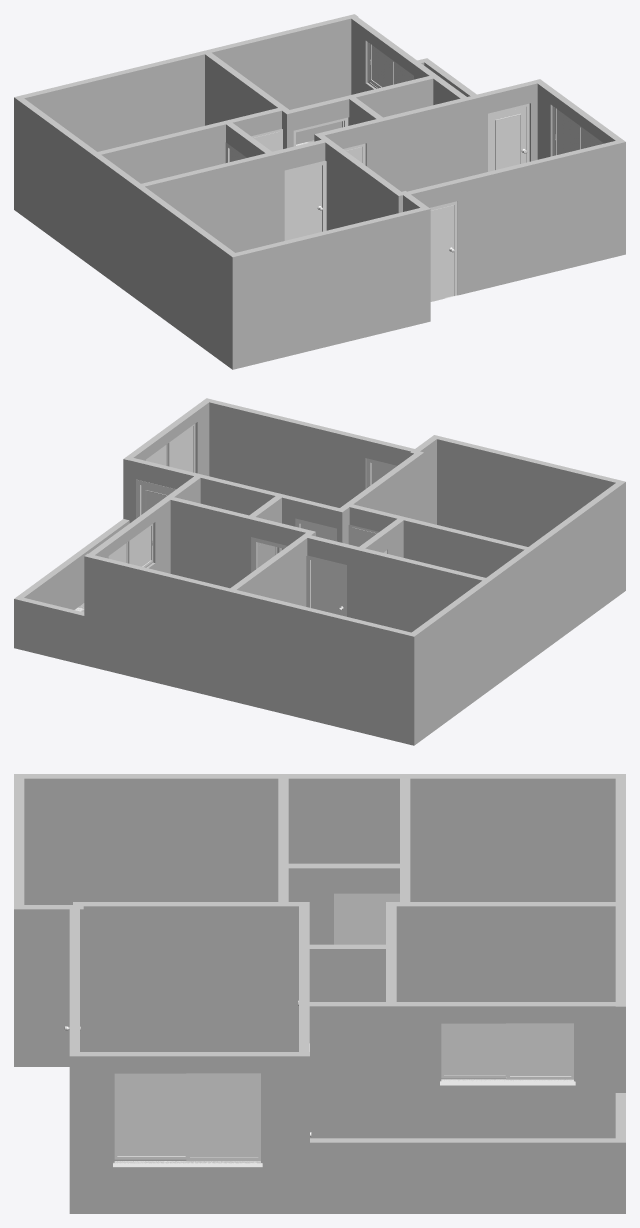
File: home_applied_glb.glb
The picture shows the model from 3 angles, top to bottom: view 1: azimuth 30°, elevation 25°; view 2: azimuth 150°, elevation 25°; view 3: azimuth 270°, elevation 25°; orthographic projection. The views are drawn at different scales.
Visible parts, largest first — view 1: Walls, Door.004, Door, Door.002, Window.L, DoorFrame.004, Window.L.001; view 2: Walls, Door.003, Window.R, Window.R.001, DoorFrame.003, Door.002; view 3: Walls, Window.L, Window.R, Window.L.001, Window.R.001, Door.005, Windows_Sill, Windows_Sill.001, WindowFrame, WindowFrame.001.
Boxes of the visible parts, <box> form: Walls: <box>14,14,625,369</box>; Door.004: <box>288,165,321,239</box>; Door: <box>430,205,453,301</box>; Door.002: <box>490,106,525,171</box>; Window.L: <box>555,108,578,155</box>; DoorFrame.004: <box>284,160,326,240</box>; Window.L.001: <box>370,44,391,87</box>; Walls: <box>14,398,625,745</box>; Door.003: <box>311,560,343,615</box>; Window.R: <box>167,424,194,472</box>; Window.R.001: <box>128,524,152,567</box>; DoorFrame.003: <box>306,555,346,616</box>; Door.002: <box>141,485,171,514</box>; Walls: <box>14,774,625,1213</box>; Window.L: <box>186,1073,260,1161</box>; Window.R: <box>114,1073,186,1159</box>; Window.L.001: <box>506,1023,573,1079</box>; Window.R.001: <box>441,1023,506,1078</box>; Door.005: <box>339,897,397,944</box>; Windows_Sill: <box>113,1161,262,1167</box>; Windows_Sill.001: <box>440,1079,575,1085</box>; WindowFrame: <box>113,1072,262,1162</box>; WindowFrame.001: <box>440,1022,575,1081</box>.
Bounding box in the file's own units: 9.72 × 2.79 × 8.8.
Materials: 8 (1 with a texture image).
